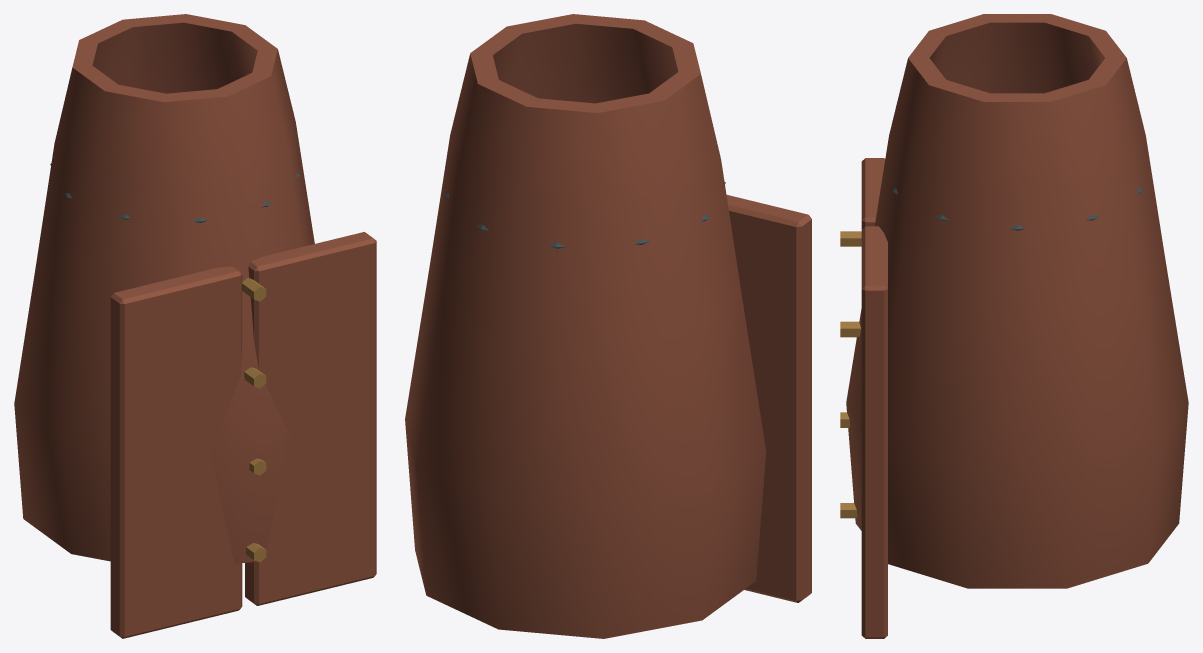
Rendered from wearable_oilskin_coat_a.glb.
3 renders of one model, left to right at view 1: azimuth 30°, elevation 25°; view 2: azimuth 150°, elevation 25°; view 3: azimuth 270°, elevation 25°, orthographic. The views are drawn at different scales.
Parts seen in each view (by area): view 1: oilskin_coat_collar, oilskin_toggle_0; view 2: oilskin_coat_collar; view 3: oilskin_coat_collar, oilskin_toggle_0.
Boxes of the visible parts, x1,y1,x2,y2 form: oilskin_coat_collar: (14, 14, 376, 638); oilskin_toggle_0: (242, 277, 266, 562); oilskin_coat_collar: (405, 14, 811, 638); oilskin_coat_collar: (846, 14, 1188, 638); oilskin_toggle_0: (840, 231, 861, 518).
Size of the model in its own units: 0.6848 by 1.2 by 0.7325.
